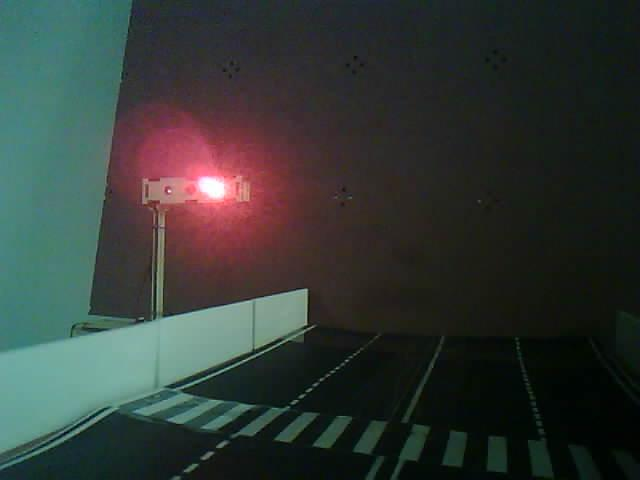crosswalk: (105, 370, 612, 480)
red: (121, 118, 258, 324)
